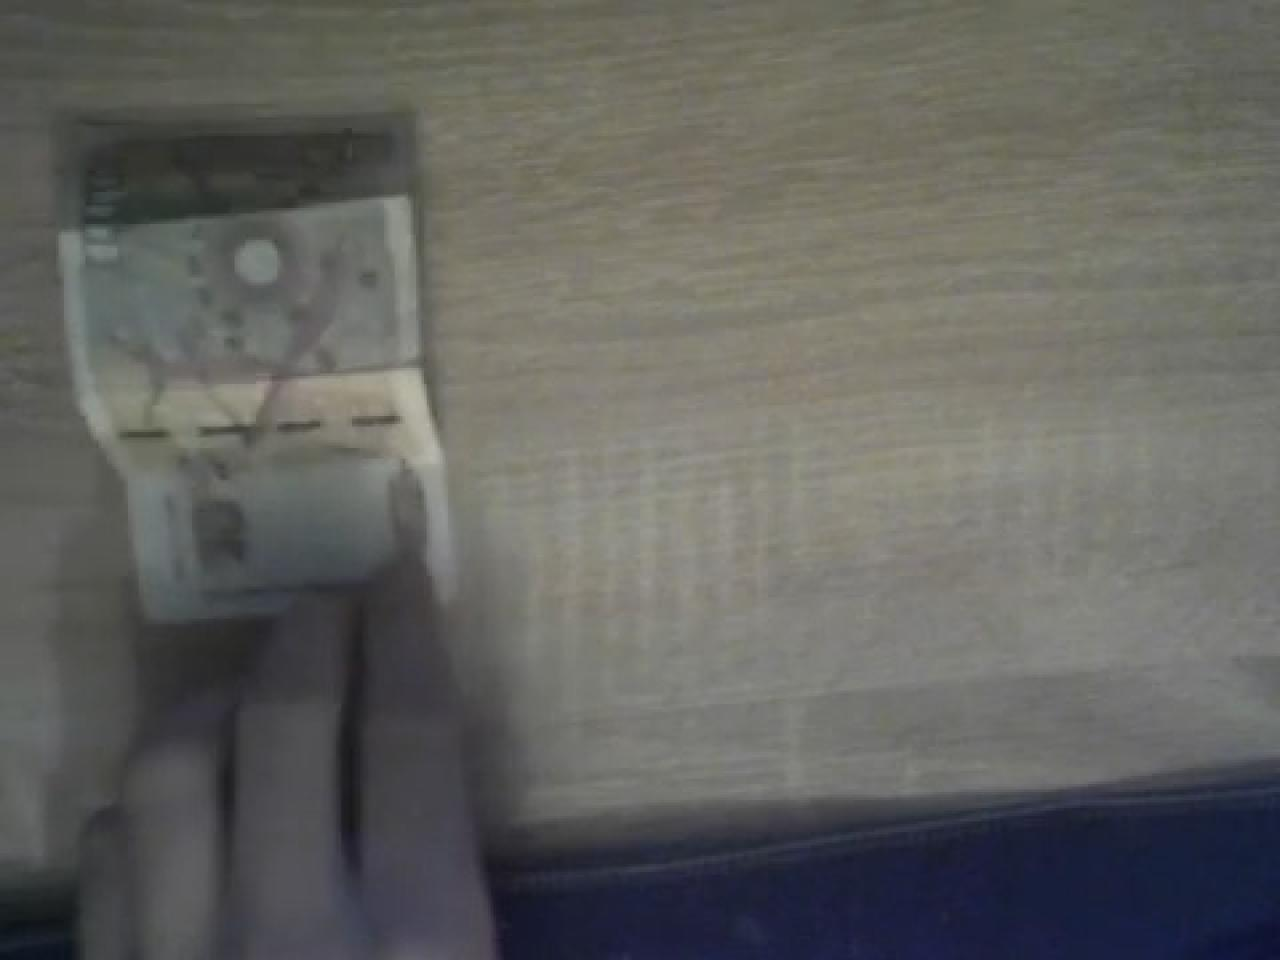10leva: (56, 109, 491, 960)
